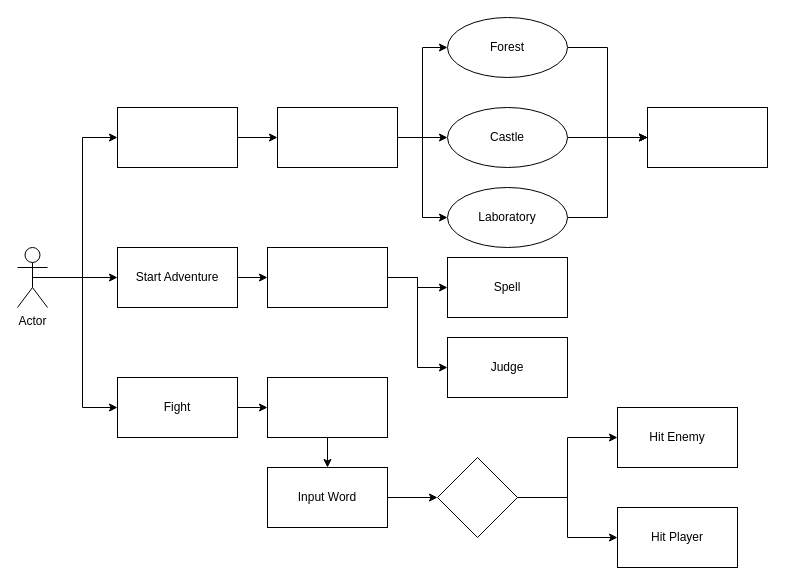
This 785x585 diagram has some shape labels left out. Each missing label, with the centre of its shape:
"Choose Book" goes at [337,137].
"Is right?" goes at [477,497].
"Library" goes at [177,137].
"Mentor Guide" goes at [707,137].
"Mode Choose" goes at [327,277].
"System Hint (Chinese)" goes at [327,407].
